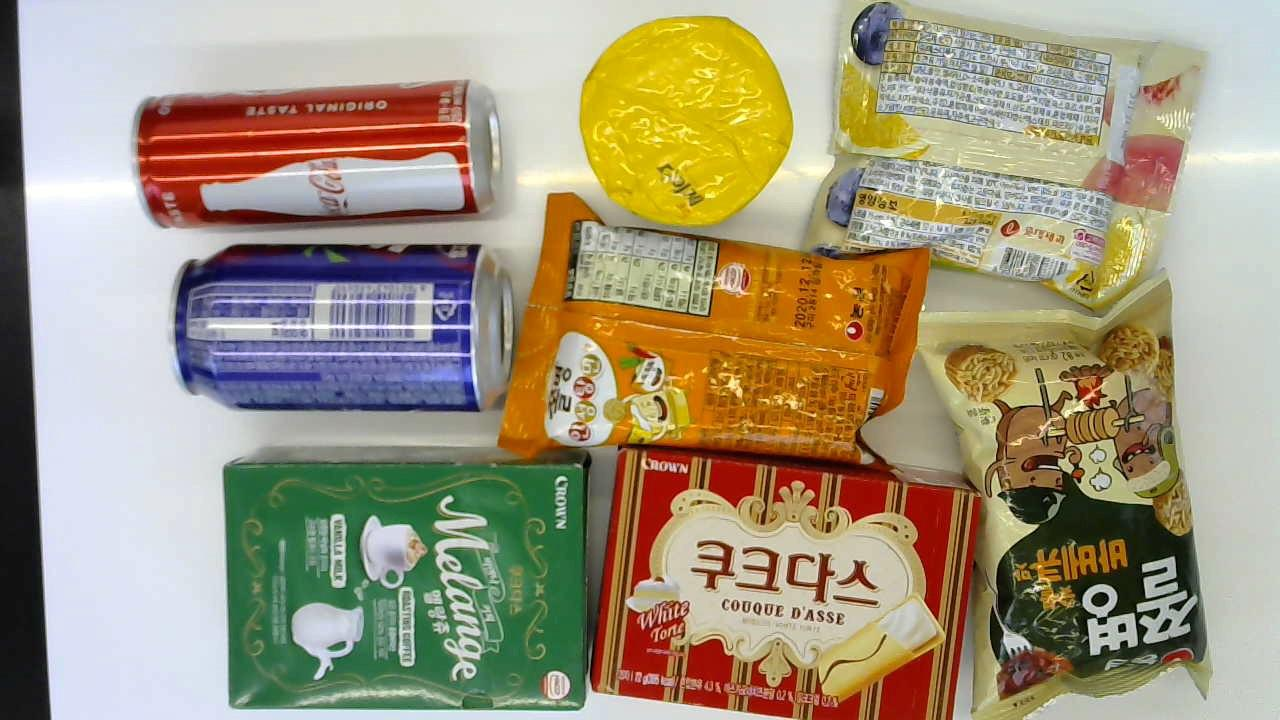coke: (127, 67, 511, 237)
couque_coffee: (219, 445, 595, 720)
couque_white: (604, 441, 981, 709)
diget_choco: (571, 17, 792, 227)
gumi_gumi: (796, 0, 1213, 324)
jjolbyung_noodle: (483, 194, 939, 469)
jjolbyung_ori: (919, 265, 1226, 713)
welchs: (155, 245, 514, 421)
